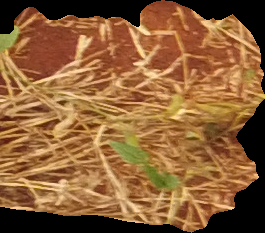soil: (2, 2, 259, 229)
